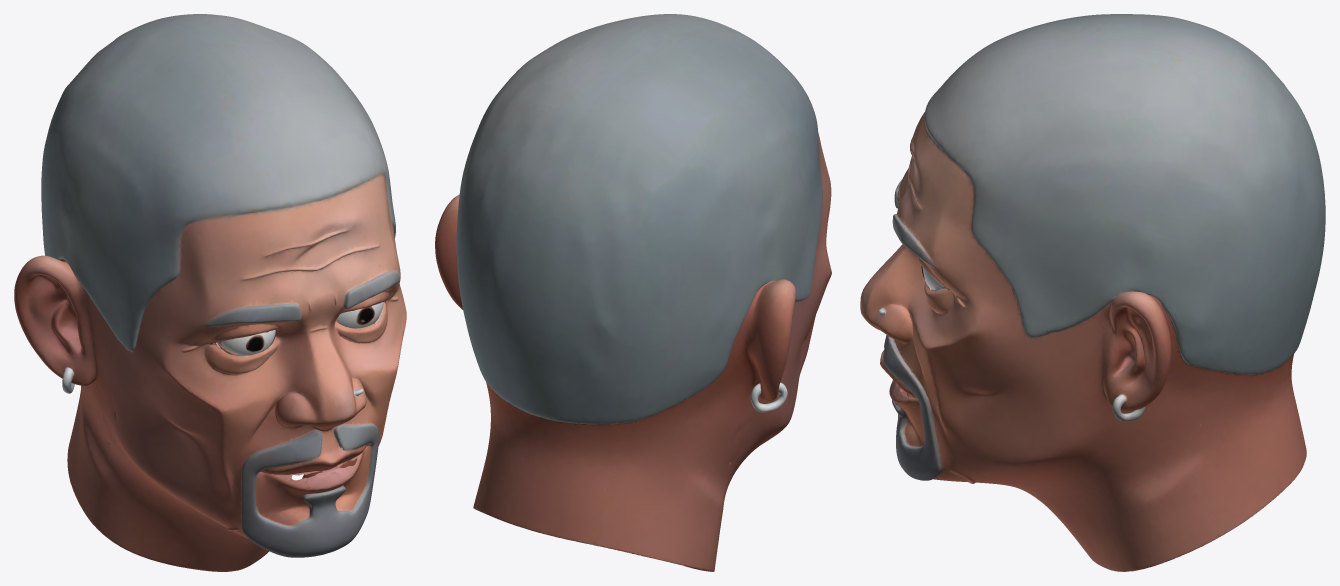
File: sample_00041.glb
3 renders of one model, left to right at view 1: azimuth 30°, elevation 25°; view 2: azimuth 150°, elevation 25°; view 3: azimuth 270°, elevation 25°, orthographic.
Visible parts, largest first — view 1: TopoRig_CoordinateSystem, EyeAU_CompleteBall_right, EyeAU_CompleteBall_left; view 2: TopoRig_CoordinateSystem; view 3: TopoRig_CoordinateSystem.
Boxes of the visible parts, <box> form: TopoRig_CoordinateSystem: <box>14,14,406,571</box>; EyeAU_CompleteBall_right: <box>216,330,275,355</box>; EyeAU_CompleteBall_left: <box>336,302,383,328</box>; TopoRig_CoordinateSystem: <box>435,14,831,571</box>; TopoRig_CoordinateSystem: <box>860,14,1325,571</box>.
Size of the model in its own units: 1.17 by 1.64 by 1.32.
Materials: 3 (3 with a texture image).
